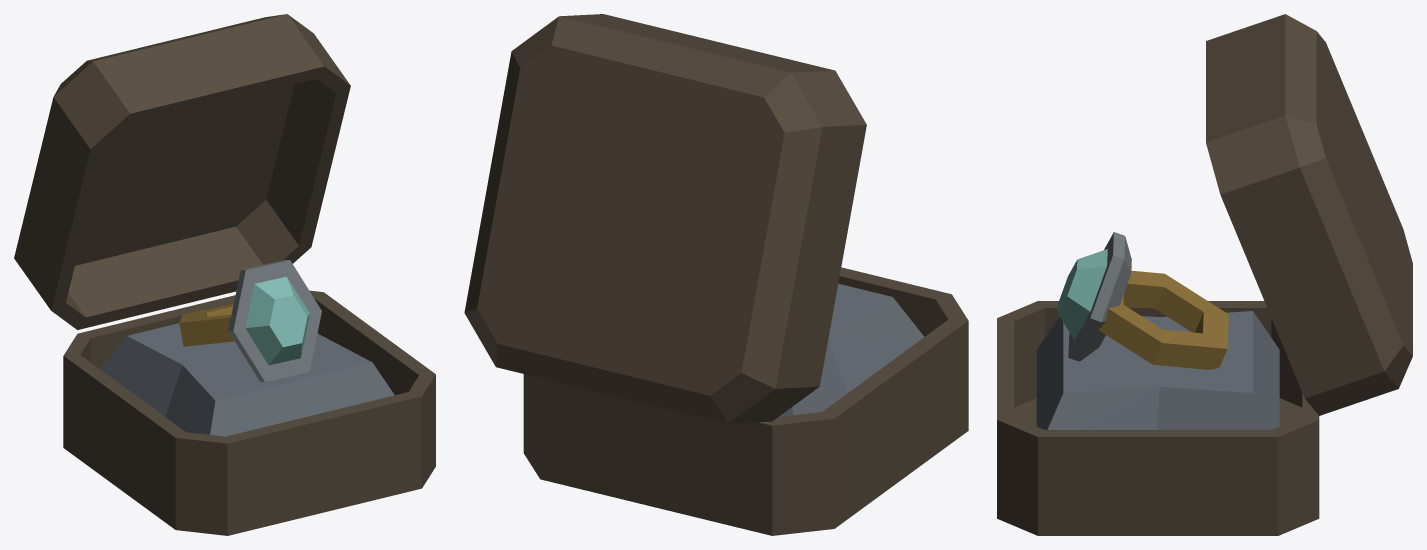
The model's file is WM_RingInBox.fbx.
3 views of the same model, side by side, from view 1: azimuth 30°, elevation 25°; view 2: azimuth 150°, elevation 25°; view 3: azimuth 270°, elevation 25° (orthographic). The views are drawn at different scales.
Parts seen in each view (by area): view 1: boxShape; view 2: boxShape; view 3: boxShape.
Part boxes in pixels (x1,y1,x2,y2): boxShape: [14, 14, 435, 535]; boxShape: [464, 14, 968, 535]; boxShape: [997, 14, 1412, 535].
Size of the model in its own units: 1.49 by 2.05 by 1.92.
